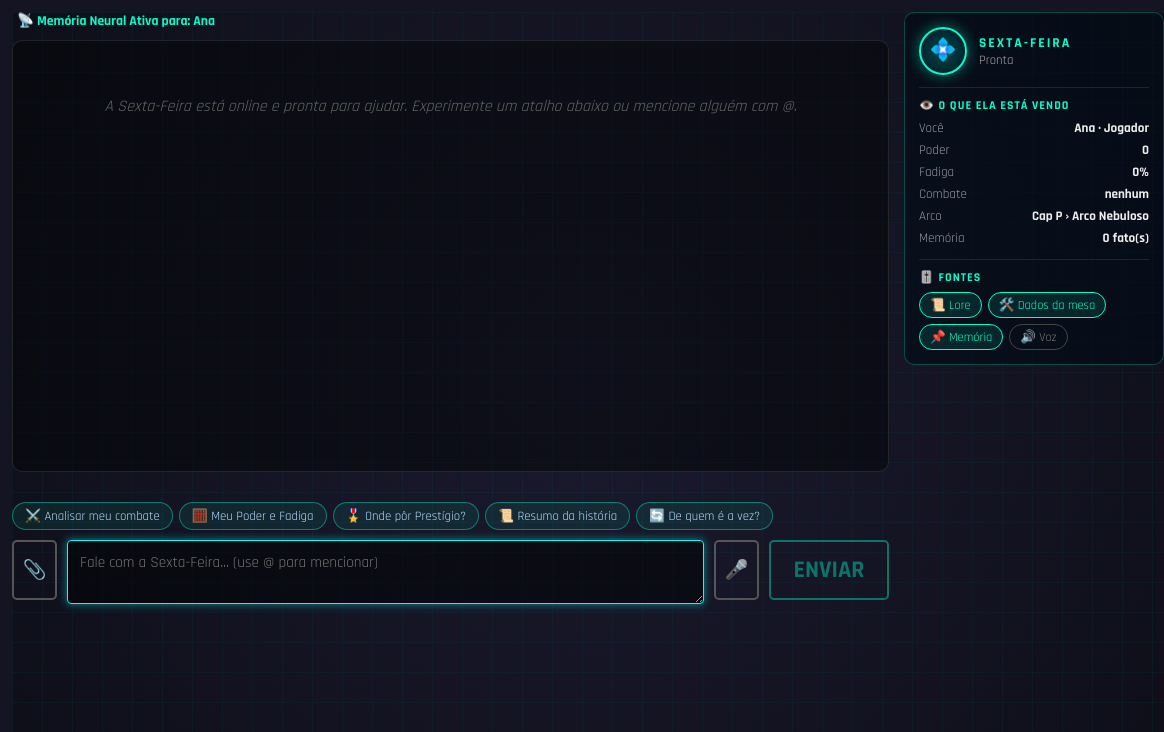
Scenario: CampoMensagem - @ menções › @ sozinho lista tudo (ate o limite) incluindo a cena e arcos
Type "@" into the text box named "Mensagem para a Sexta-Feira". click: (386, 572)
box: [67, 540, 704, 604]
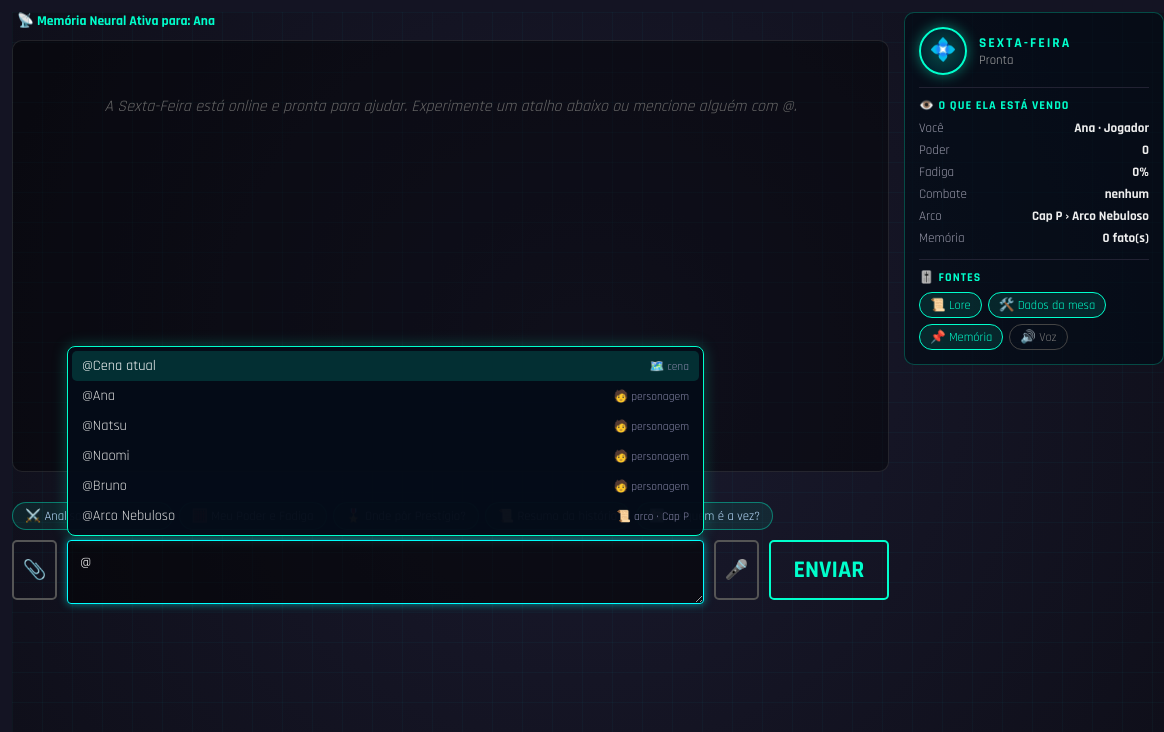
Expected: the option "@Cena atual 🗺️ cena" is shown, [72, 351, 699, 381]
